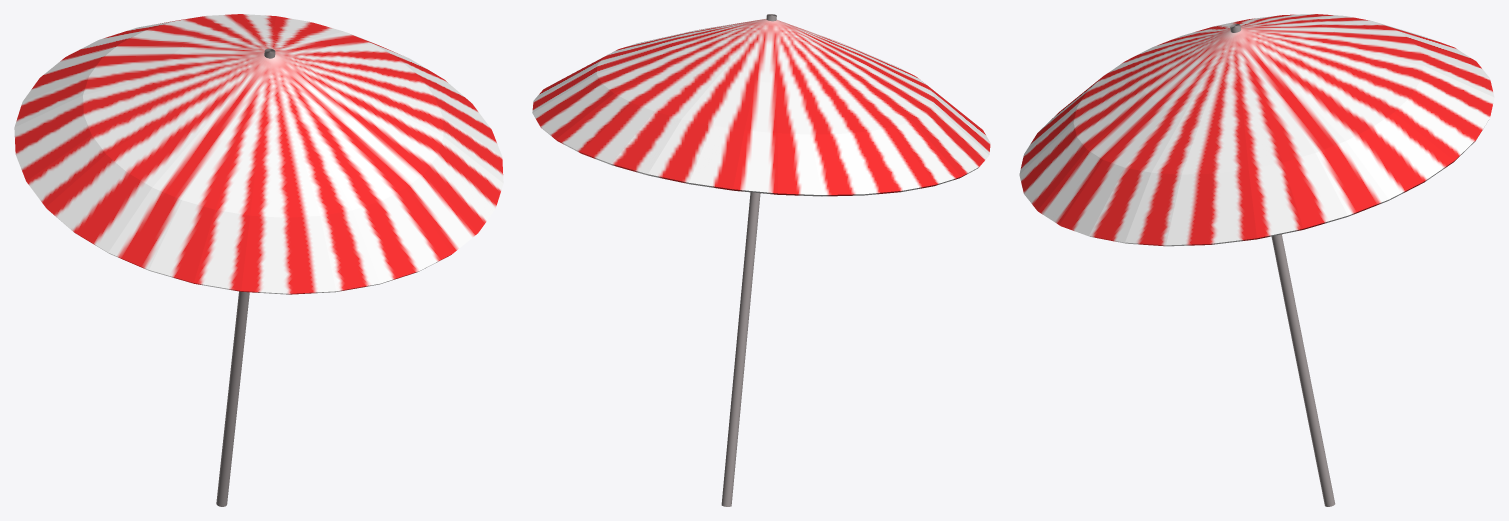
Rendered from Sombrilla_Tex.obj.
3 renders of one model, left to right at view 1: azimuth 30°, elevation 25°; view 2: azimuth 150°, elevation 25°; view 3: azimuth 270°, elevation 25°, orthographic. The views are drawn at different scales.
Parts seen in each view (by area): view 1: Sombrilla_tex; view 2: Sombrilla_tex; view 3: Sombrilla_tex.
Part boxes in pixels (bbox=[...]): Sombrilla_tex: bbox=[14, 14, 503, 506]; Sombrilla_tex: bbox=[532, 14, 990, 506]; Sombrilla_tex: bbox=[1019, 14, 1494, 506].
Size of the model in its own units: 0.6772 by 0.7427 by 0.6665.
